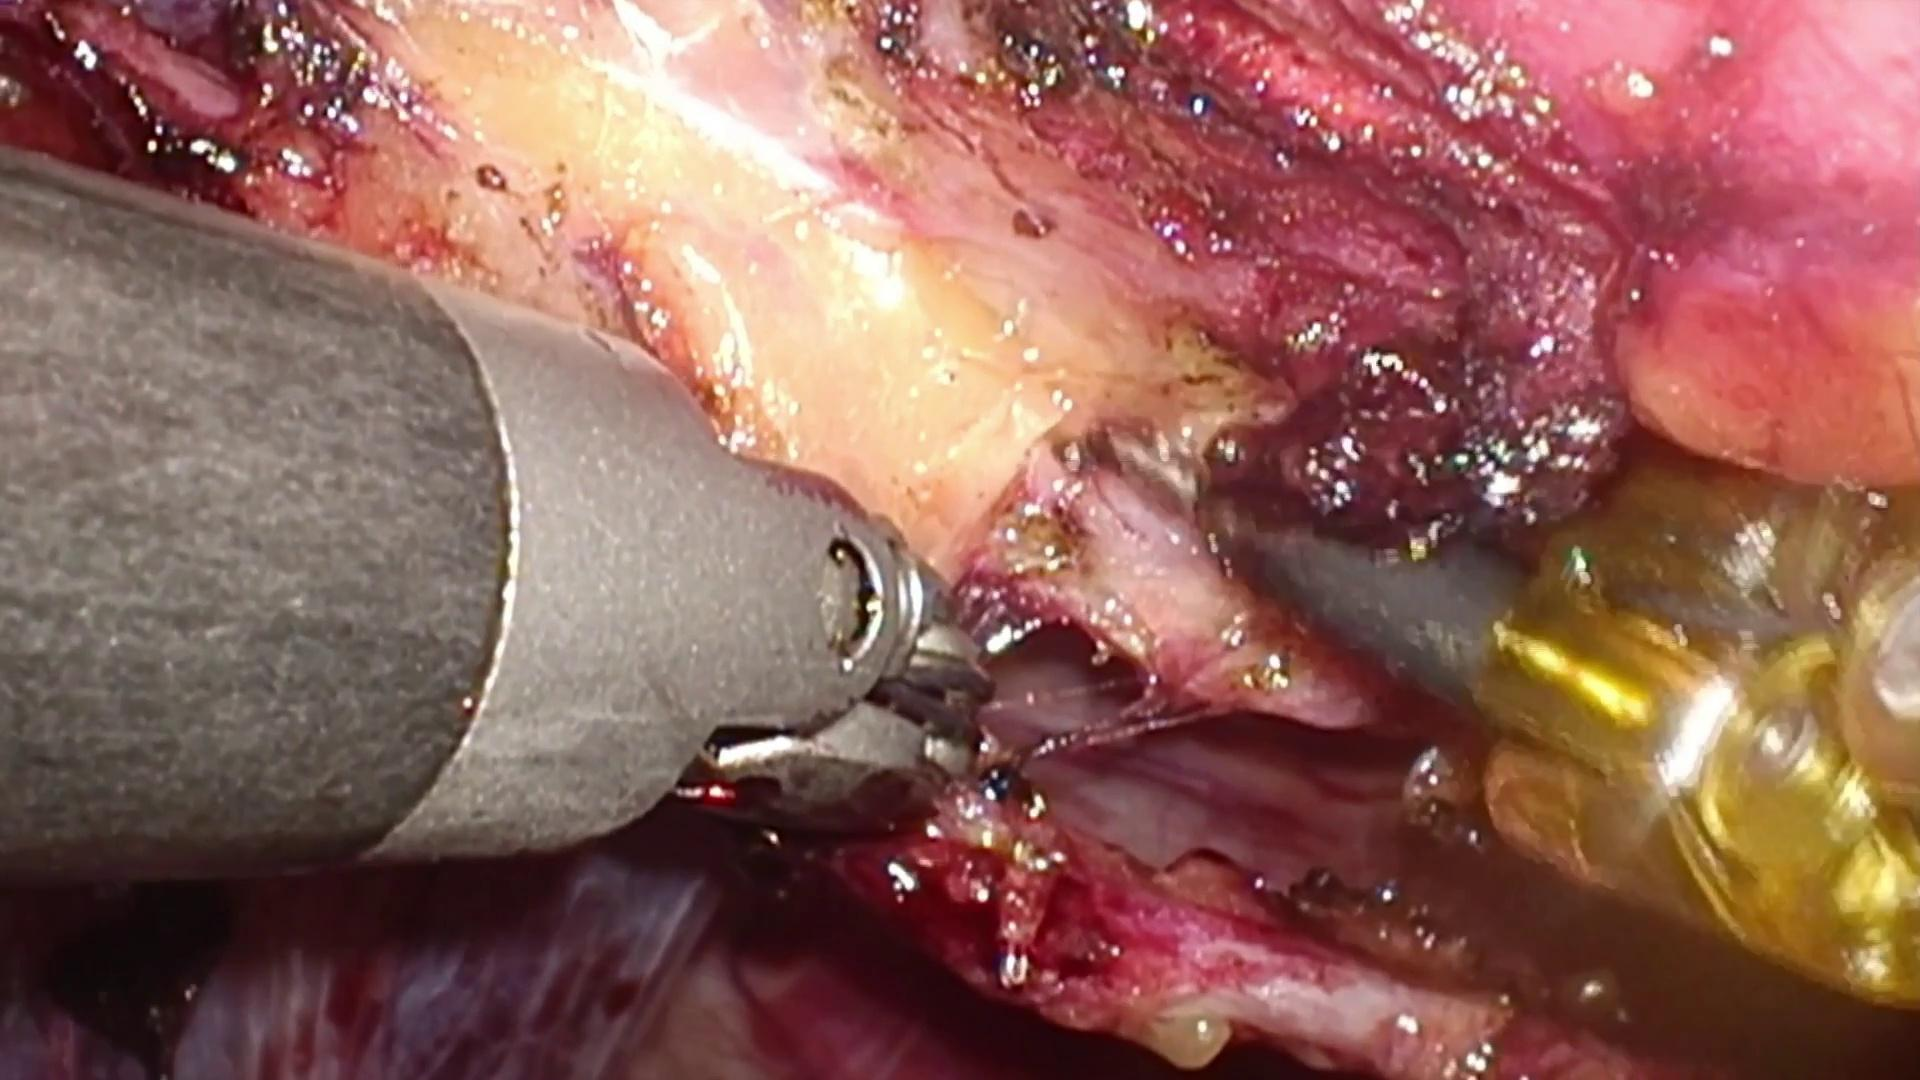Cautery_Spatula: (1112, 430, 1535, 708)
